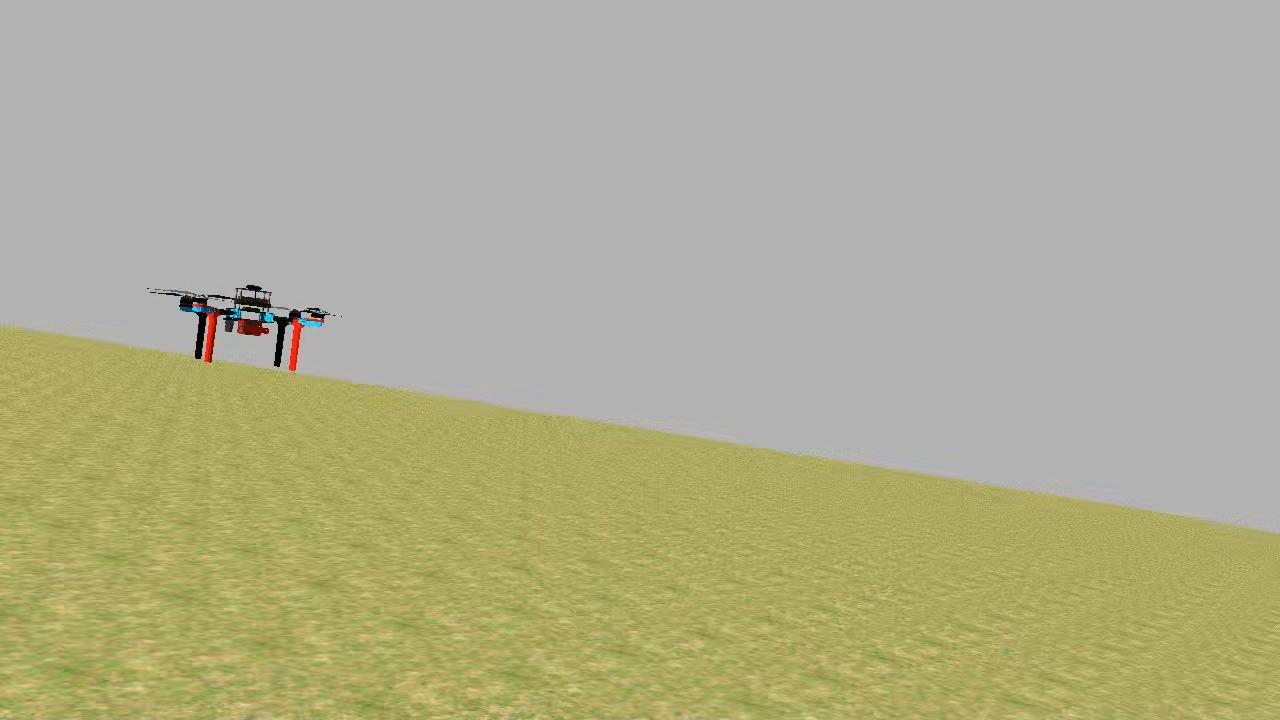UAV: (175, 277, 332, 382)
